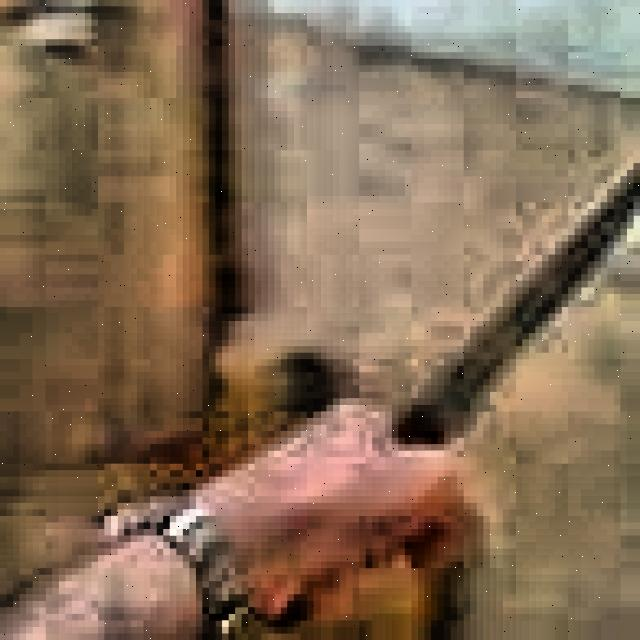knife: (247, 162, 640, 622)
